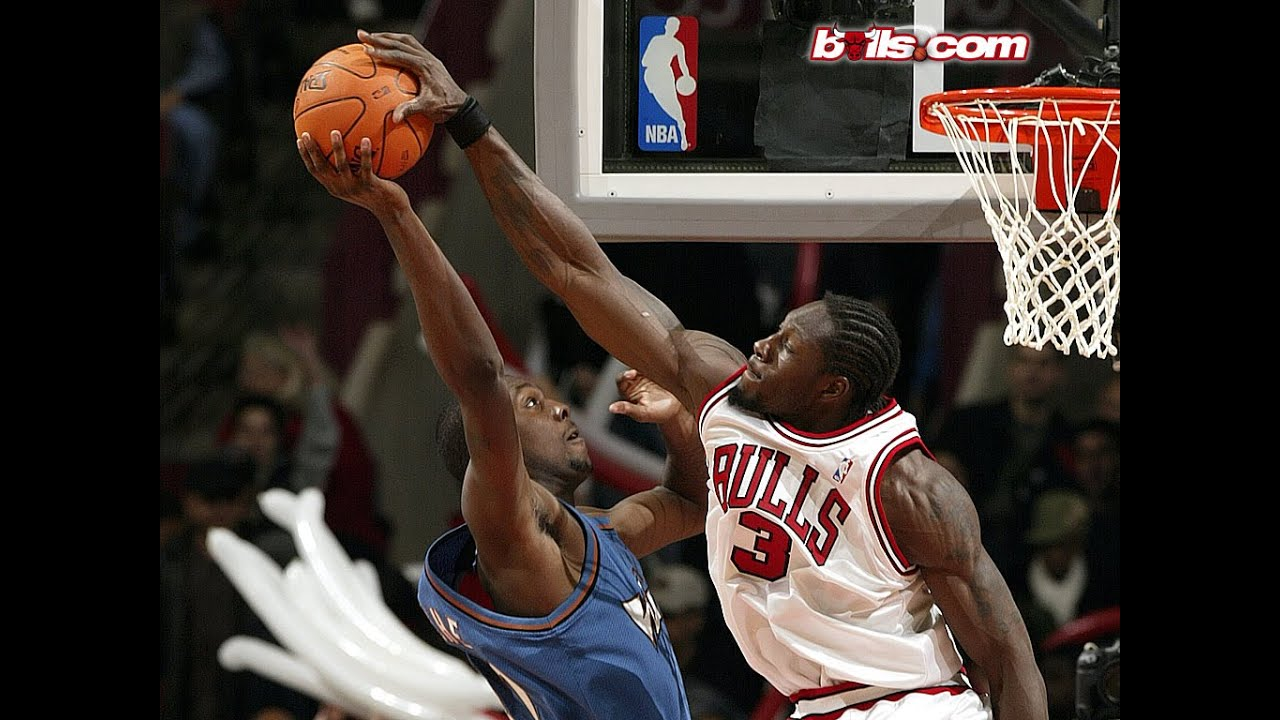b_ball: (275, 40, 445, 178)
basket: (904, 80, 1121, 379)
face: (730, 292, 912, 435), (418, 380, 598, 490)
player: (303, 130, 687, 720), (657, 279, 1039, 720)
